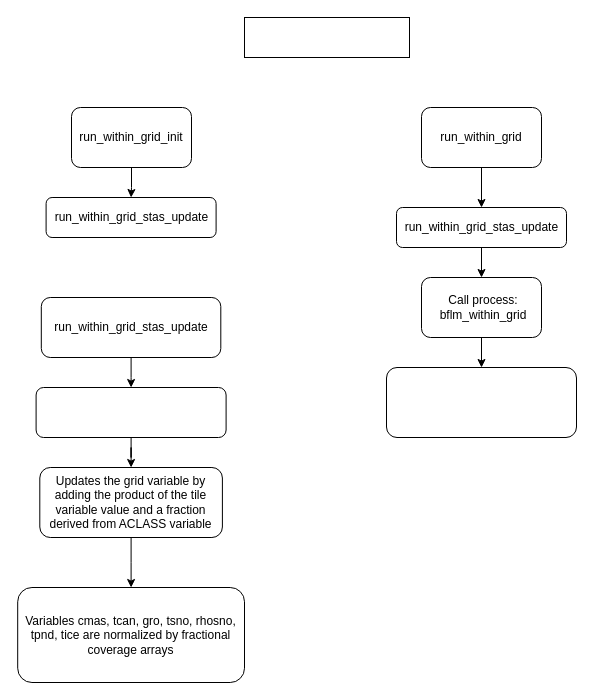
Some shapes in this 594 by 700 pixel diagram are drawn without their labels. The shapes that lost their labels are listed below. From the top down, each one's centre as x and y in pixels, then its label:
At point 327,37: "sa_mesh_run_within_grid".
At point 130,412: "Initializes grid variables to 0.0".
At point 481,402: "Updates Grid variables: rff, ovrflw, latflw, lkg".
